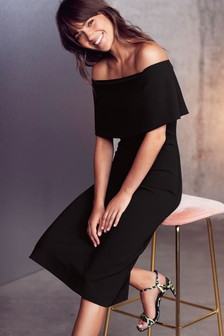S_dress: (40, 66, 187, 284)
